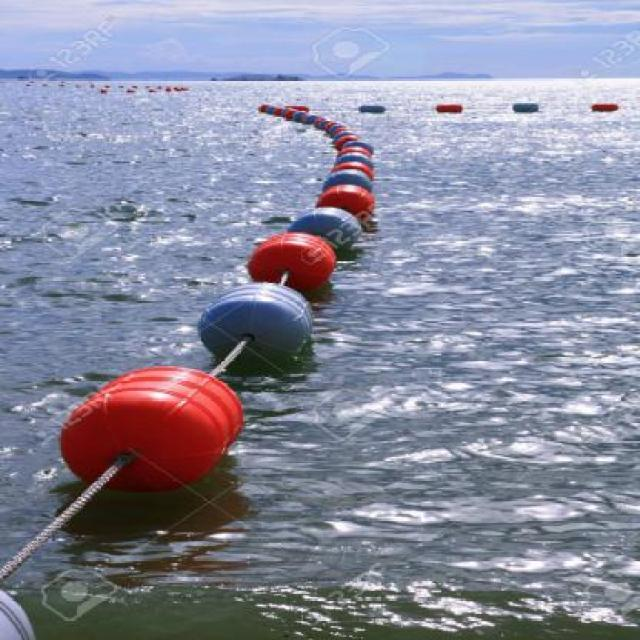a: (34, 362, 260, 496), (177, 277, 337, 380), (236, 231, 357, 291), (278, 206, 382, 264), (308, 178, 400, 233), (581, 97, 626, 133), (359, 94, 400, 125), (509, 95, 547, 127), (426, 101, 473, 124)
